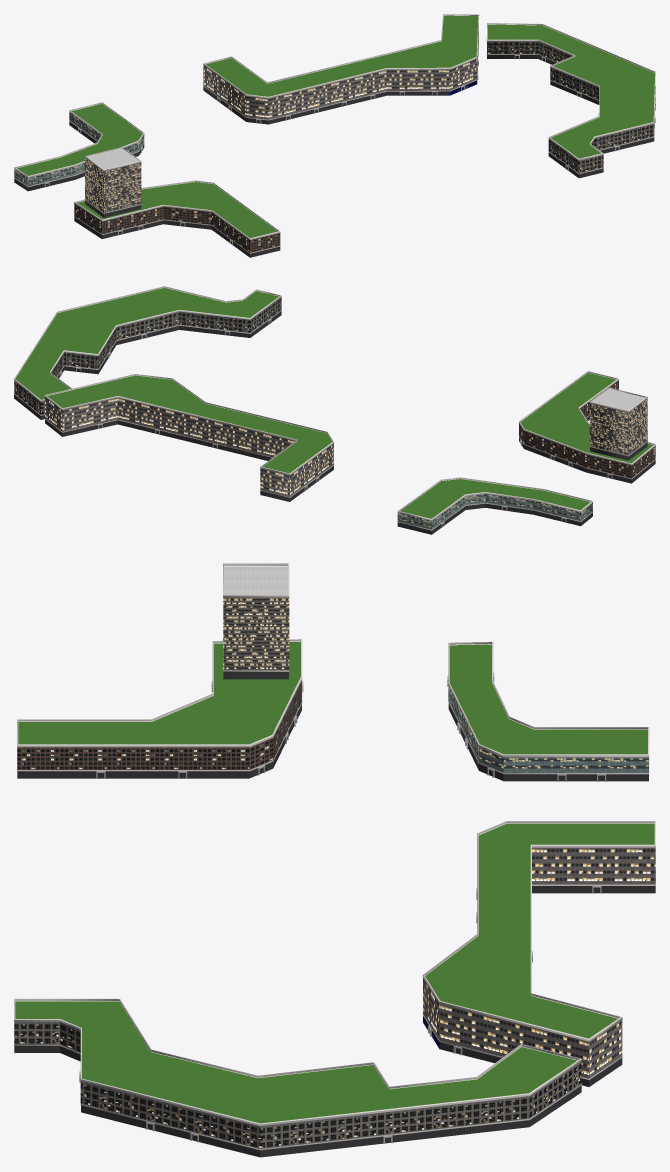
Rendered from buildingsb.glb.
3 renders of one model, top to bottom at view 1: azimuth 30°, elevation 25°; view 2: azimuth 150°, elevation 25°; view 3: azimuth 270°, elevation 25°, orthographic. The views are drawn at different scales.
Visible parts, largest first — view 1: buildings; view 2: buildings; view 3: buildings.
Boxes of the visible parts, left/top/right/bottom form: buildings: left=14, top=14, right=655, bottom=257; buildings: left=14, top=286, right=655, bottom=534; buildings: left=14, top=563, right=655, bottom=1157.
Size of the model in its own units: 438 by 48.01 by 242.
12 materials, 8 textured.
